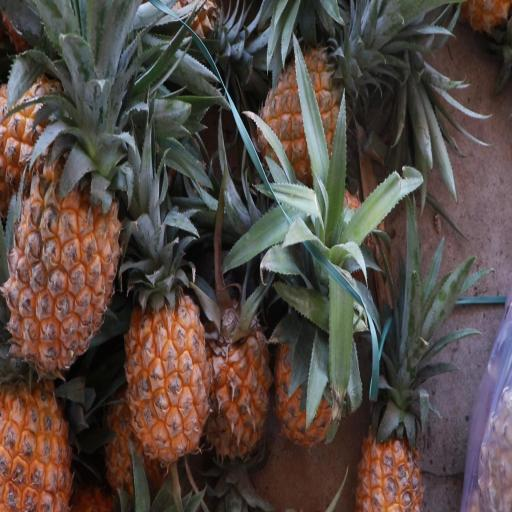Pineapple - v8 v1: (3, 135, 125, 378), (255, 44, 363, 217), (123, 280, 213, 462), (272, 293, 354, 458), (202, 288, 273, 473), (0, 366, 77, 512), (352, 374, 427, 512)
